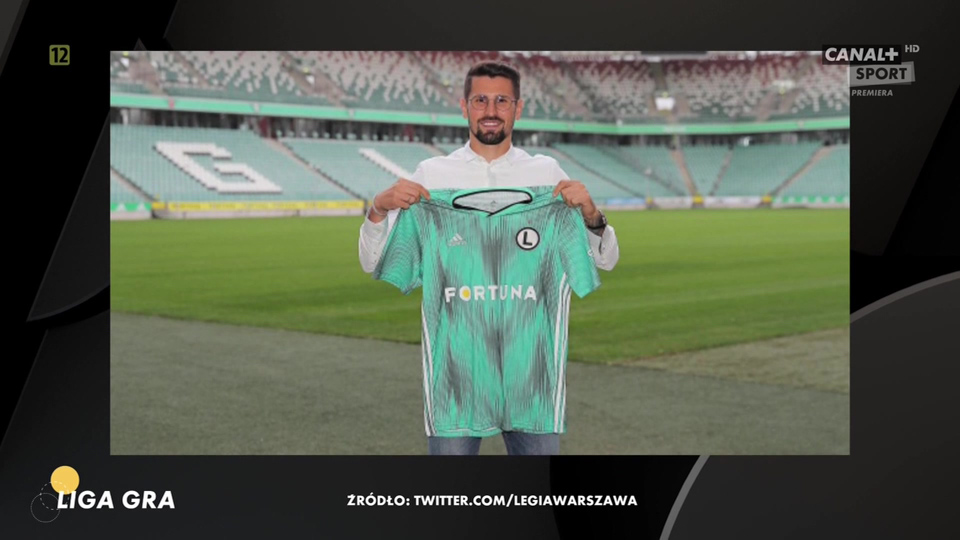Adidas: (446, 233, 467, 246)
